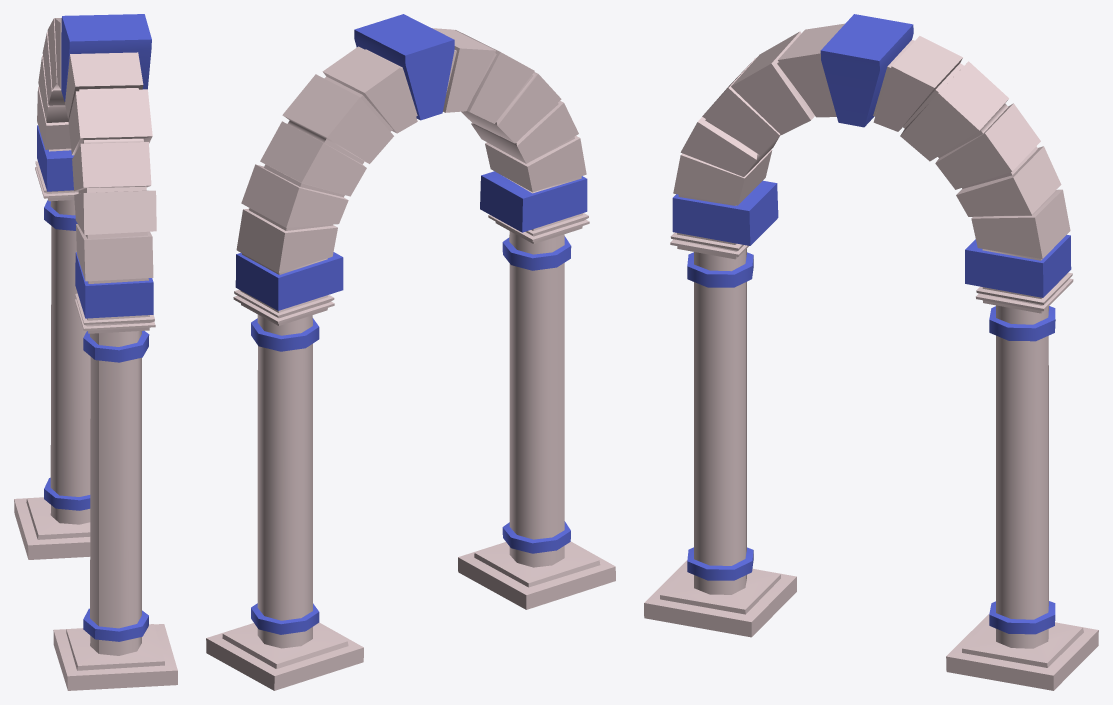
The picture shows the model from 3 angles, left to right: view 1: azimuth 30°, elevation 25°; view 2: azimuth 150°, elevation 25°; view 3: azimuth 270°, elevation 25°; orthographic projection. The views are drawn at different scales.
Parts seen in each view (by area): view 1: Arch_001; view 2: Arch_001; view 3: Arch_001.
Boxes of the visible parts, box(x1,y1,x2,y2) form: Arch_001: box(14, 14, 177, 690); Arch_001: box(206, 14, 615, 690); Arch_001: box(644, 14, 1098, 690).
Bounding box in the file's own units: 527 × 1249 × 857.
